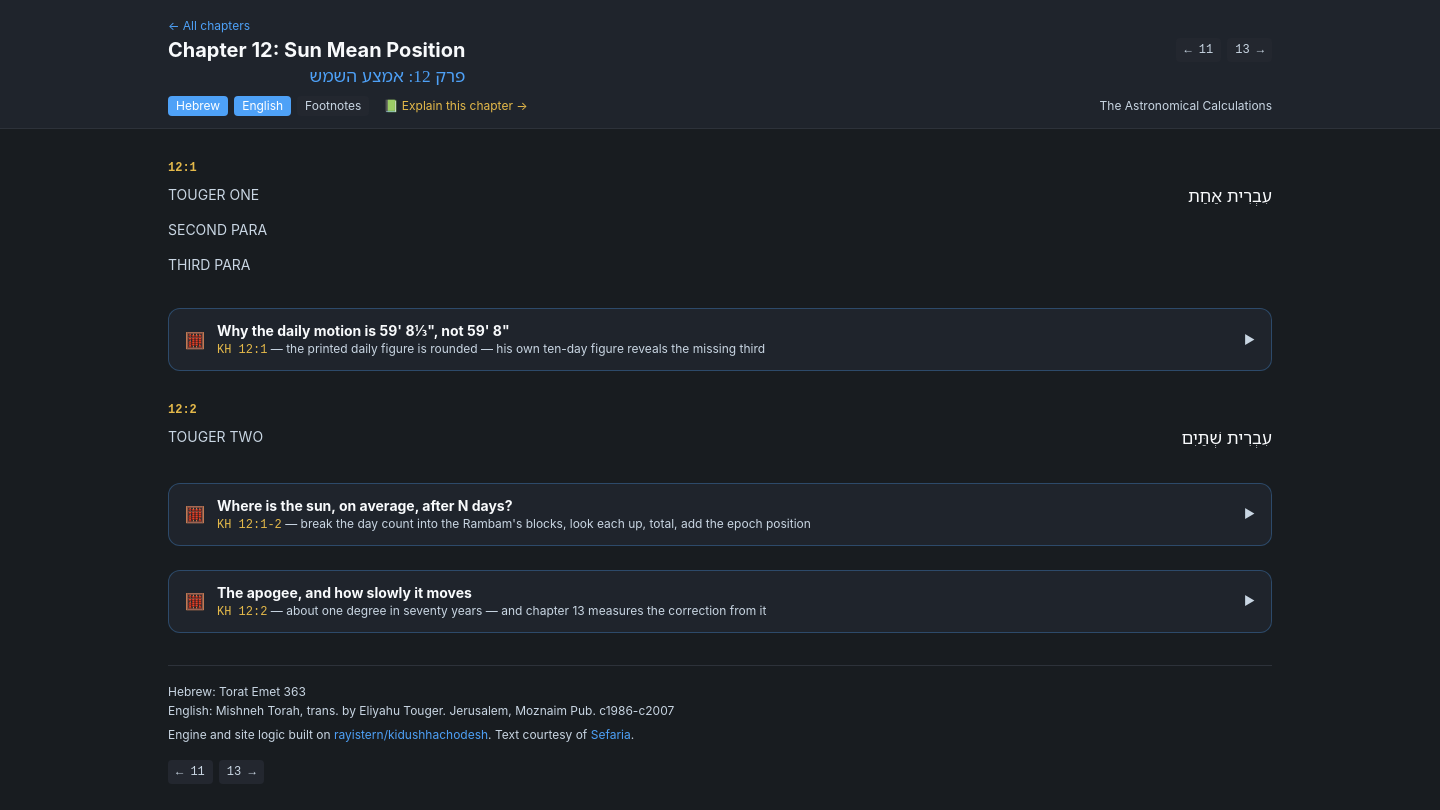
it: TextChapter › mounts the chapter-12 cards and shows the KH 12:2 result
This screenshot has width=1440, height=810.
Expected: the text "Why the daily motion is 59' 8⅓\", not 59' 8\"" is shown, x1=217 y1=322 x2=510 y2=339
Expected: the text "The apogee, and how slowly it moves" is shown, x1=217 y1=584 x2=472 y2=601
Click the button "Where is the sun, on average" at (720, 514), box x1=169 y1=484 x2=1271 y2=545
(page scrolled)
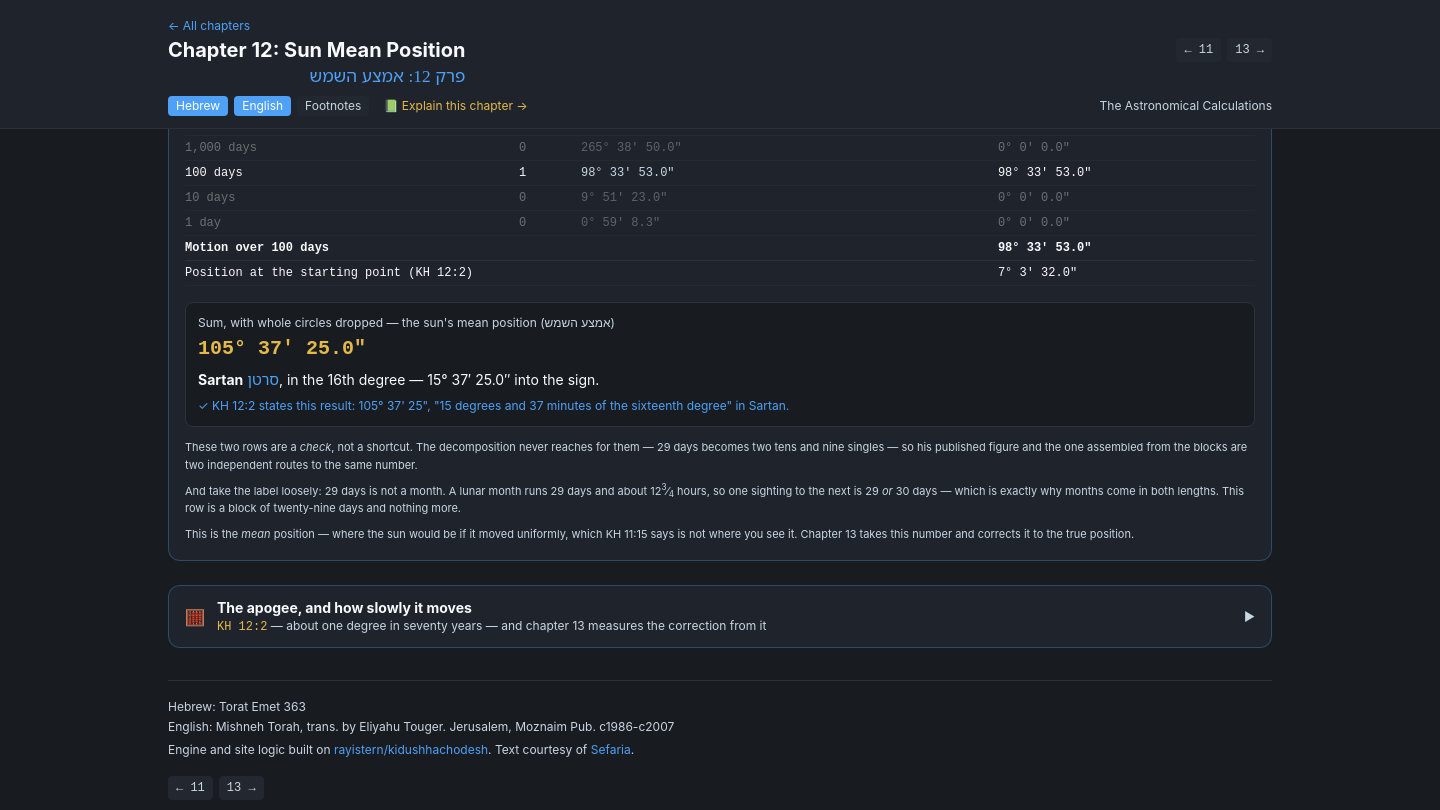
Result: the text "105° 37′ 25.0″" is shown at x1=198 y1=337 x2=366 y2=360
Result: the text "KH 12:2 states this result" is shown at x1=198 y1=398 x2=789 y2=413
